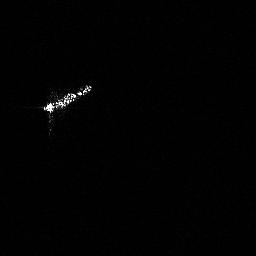ship: (43, 84, 92, 113)
